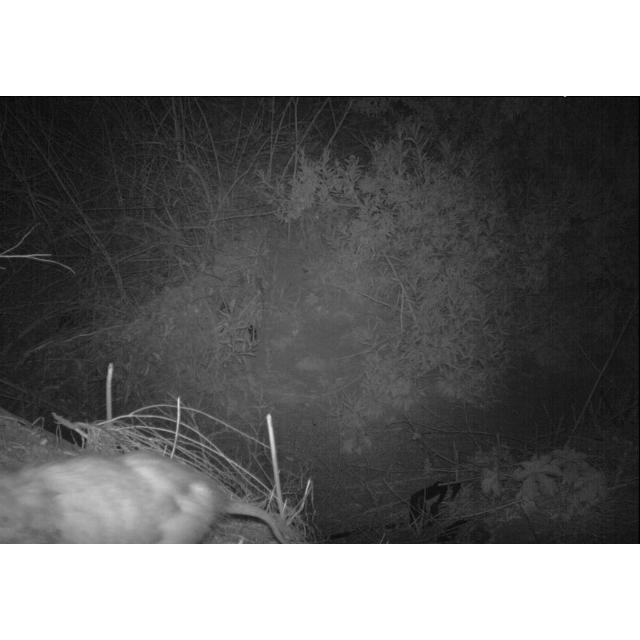animals: (0, 450, 294, 544)
